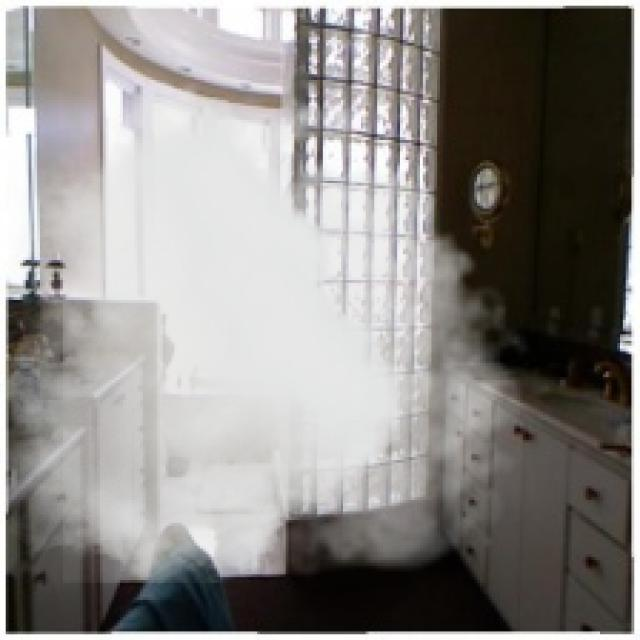Smoke: (8, 66, 540, 583)
